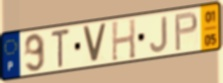9: (24, 32, 47, 73)
H: (110, 17, 137, 63)
J: (148, 14, 169, 54)
P: (174, 10, 200, 53)
T: (50, 28, 72, 71)
V: (81, 22, 109, 64)
